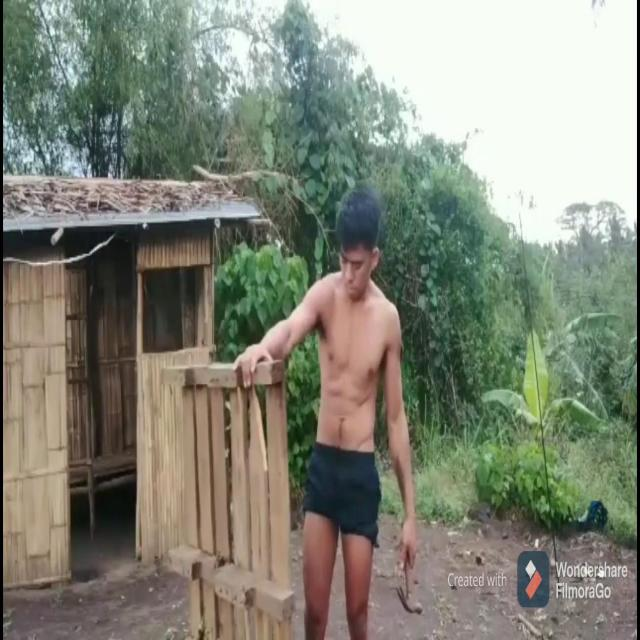hammer: (397, 522, 422, 615)
